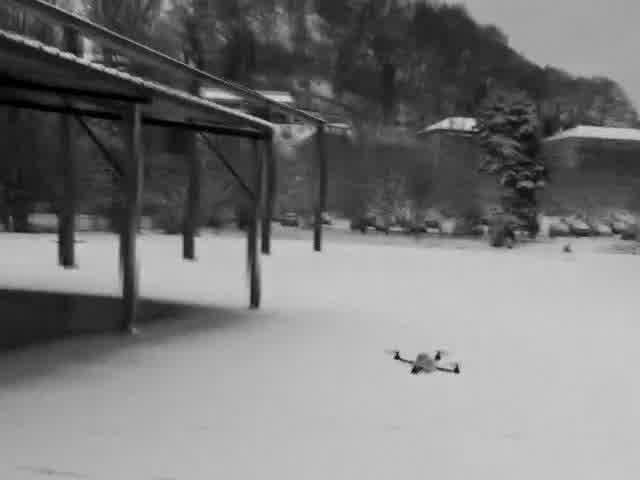drone: (379, 339, 467, 389)
